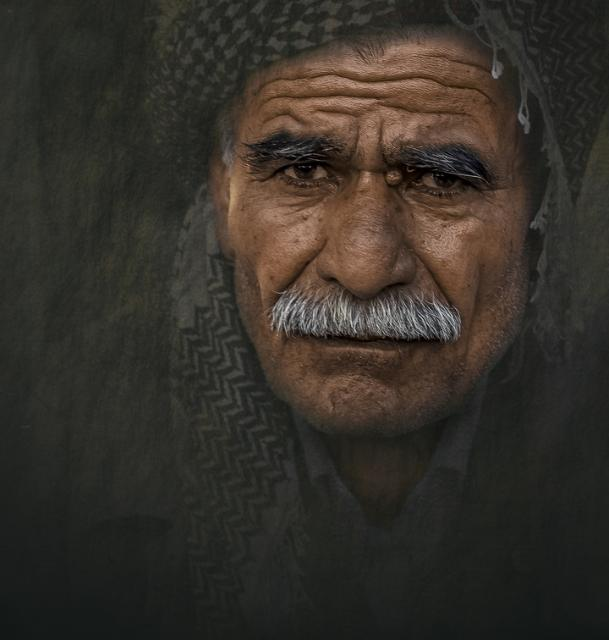forehead: (309, 60, 353, 116), (366, 66, 410, 122), (427, 68, 485, 104), (262, 70, 296, 126), (433, 44, 481, 76), (426, 98, 472, 128)
frown_line: (370, 126, 398, 164), (346, 124, 366, 158)
gummy_smile: (410, 250, 458, 300), (278, 246, 324, 294)
